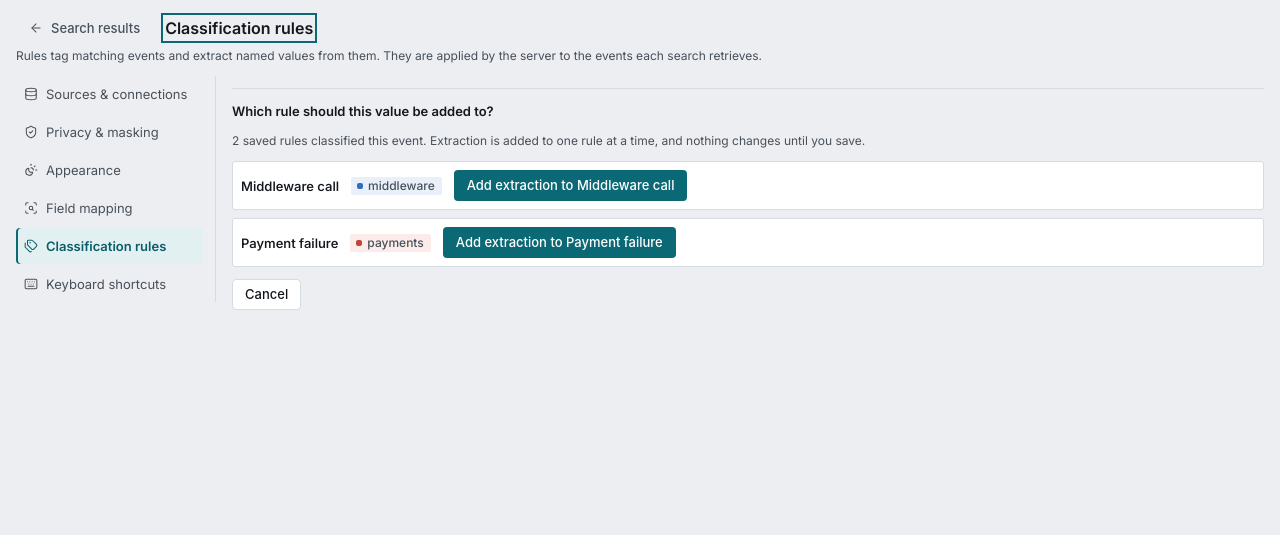
Test: ClassificationRulesWorkspace - intent="addExtraction" › asks which rule to extend when several saved rules classified the event, then opens that rule on the extraction step
Expected: the heading "Which rule should this value be added to?" is shown, [232,103,494,119]
Expected: the text "2 saved rules classified this event." is shown, [232,133,865,148]
Click the button "Add extraction to Payment failure": (559, 242) [443,227,676,258]
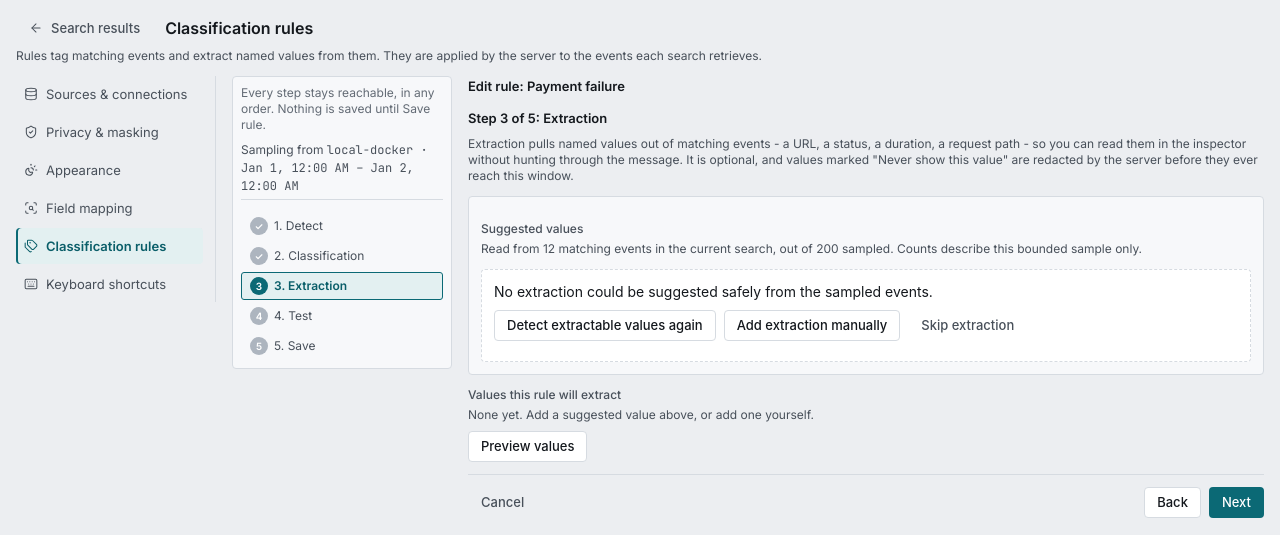
Expected: the heading "Edit rule: Payment failure" is shown, [468,78,625,94]
Expected: the heading "Step 3 of 5: Extraction" is shown, [468,110,607,126]
